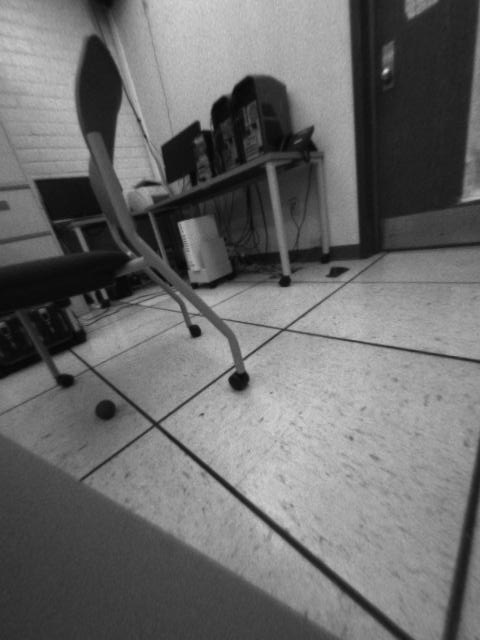dogtoy: (90, 395, 127, 424)
